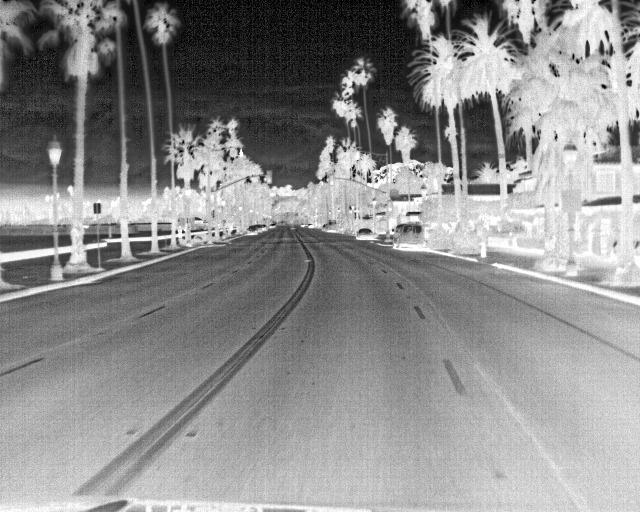car: (390, 222, 424, 251), (353, 227, 376, 242), (325, 219, 338, 233), (244, 224, 258, 236)
